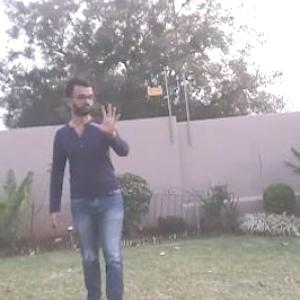follow_hand: (88, 100, 125, 136)
